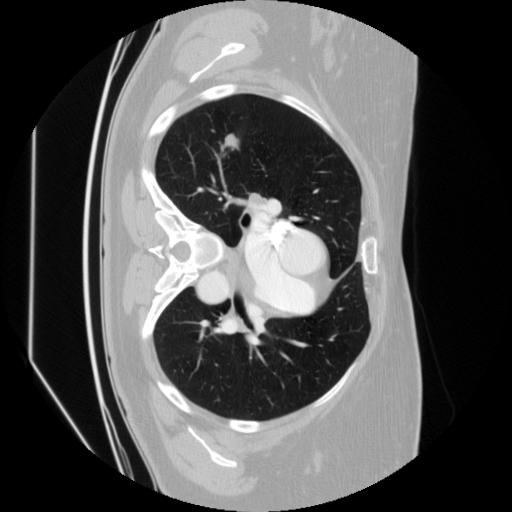nodule: (222, 132, 242, 152)
